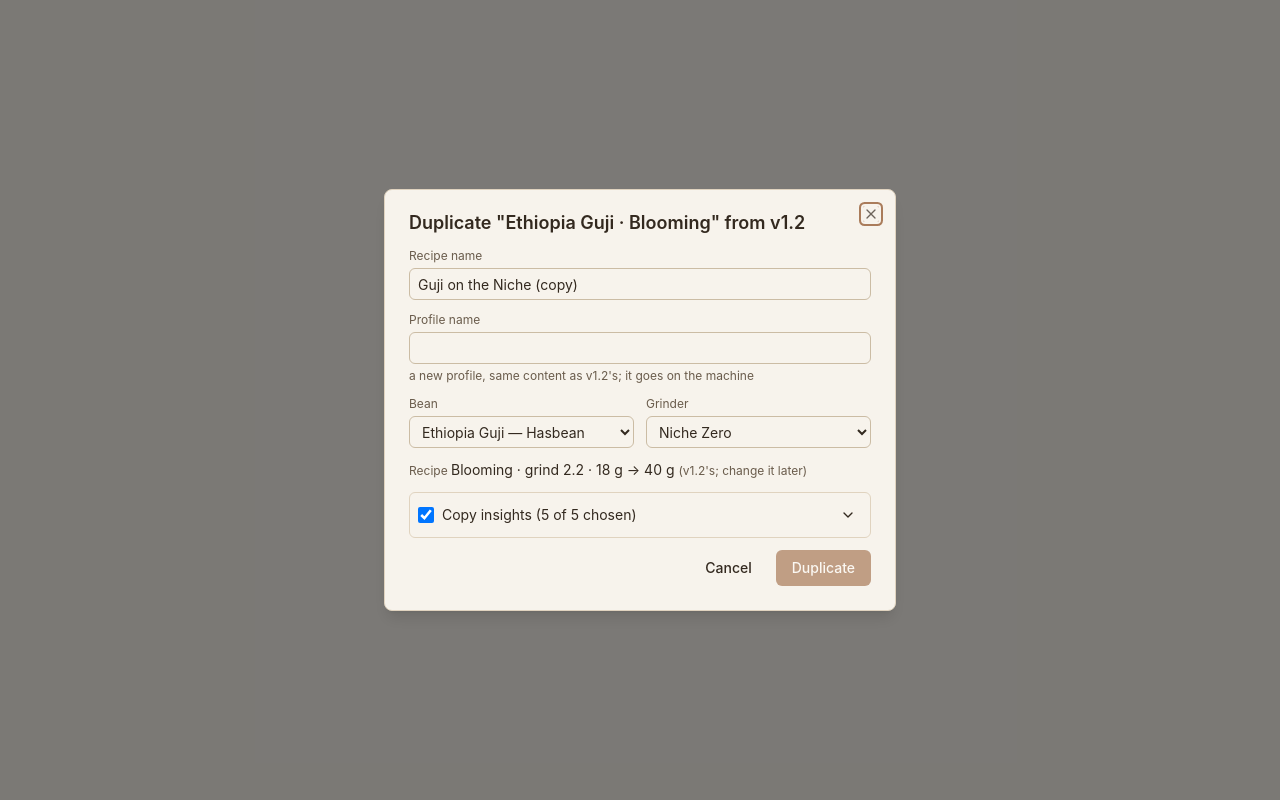
Test: the server's words, in place › shows the taken-name sentence under the profile field and waits for another name
Expected: the element with test id "duplicate-recipe" is shown, [409, 460, 871, 480]
Expected: the dropdown labelled "Bean" shows "Ethiopia Guji — Hasbean", [409, 416, 634, 448]
Type "blooming" into the field labelled "Profile name". click: (640,348)
box: [409, 332, 871, 364]
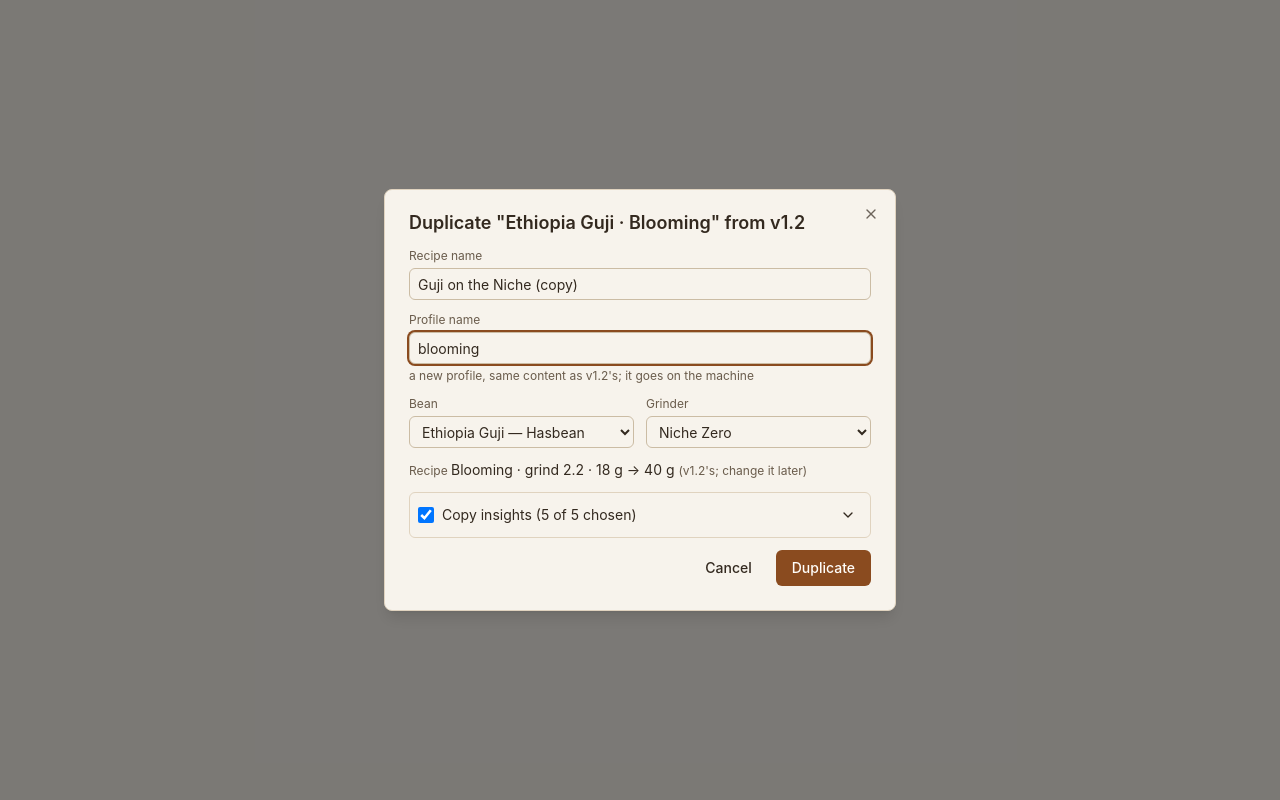
Click the button "Duplicate". click: (823,568)
box: [776, 550, 871, 586]
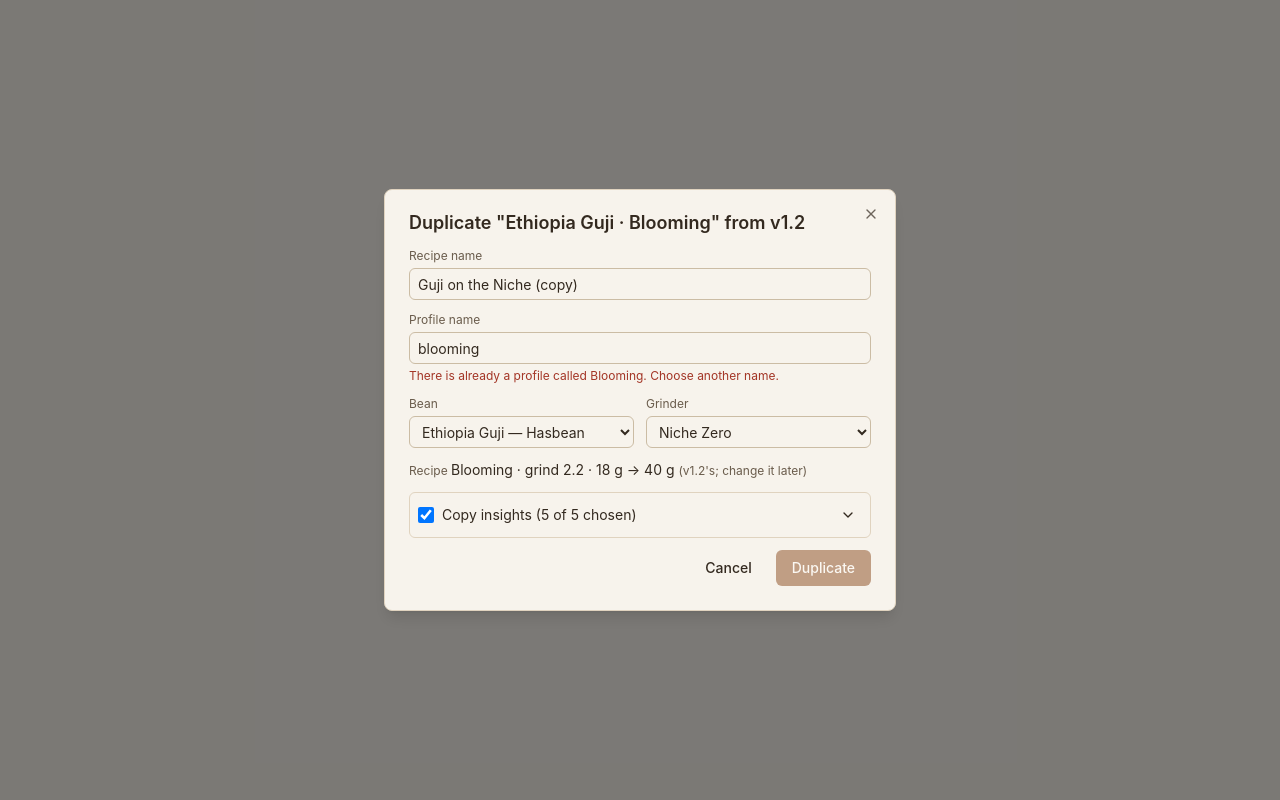
Expected: the dialog is shown, [384, 189, 896, 611]
Now the message with test id "duplicate-name-taken" reads "There is already a profile called Blooming. Choose another name.", box [409, 368, 779, 383]
Now the button "Duplicate" is disabled, box [776, 550, 871, 586]
Type " milk" into the field labelled "Profile name". click: (640,348)
box: [409, 332, 871, 364]
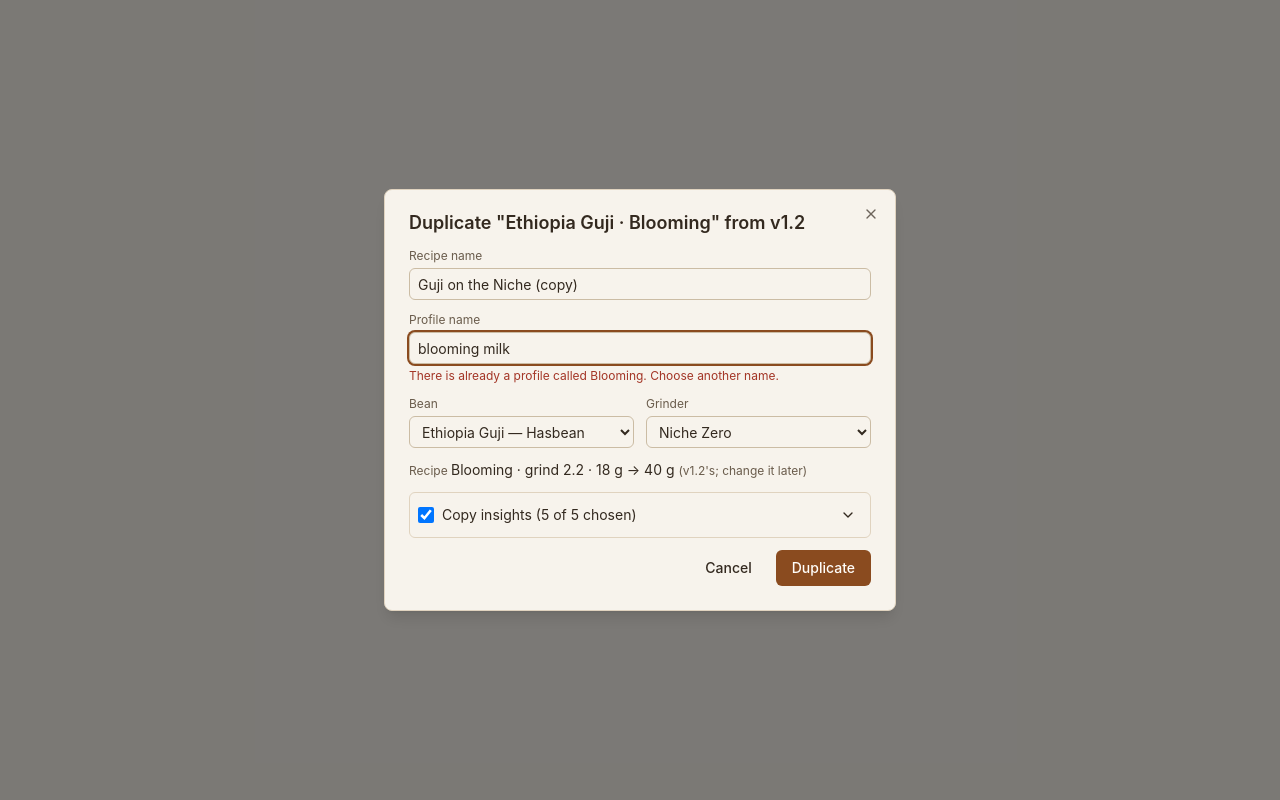
Now the button "Duplicate" is enabled, box [776, 550, 871, 586]
